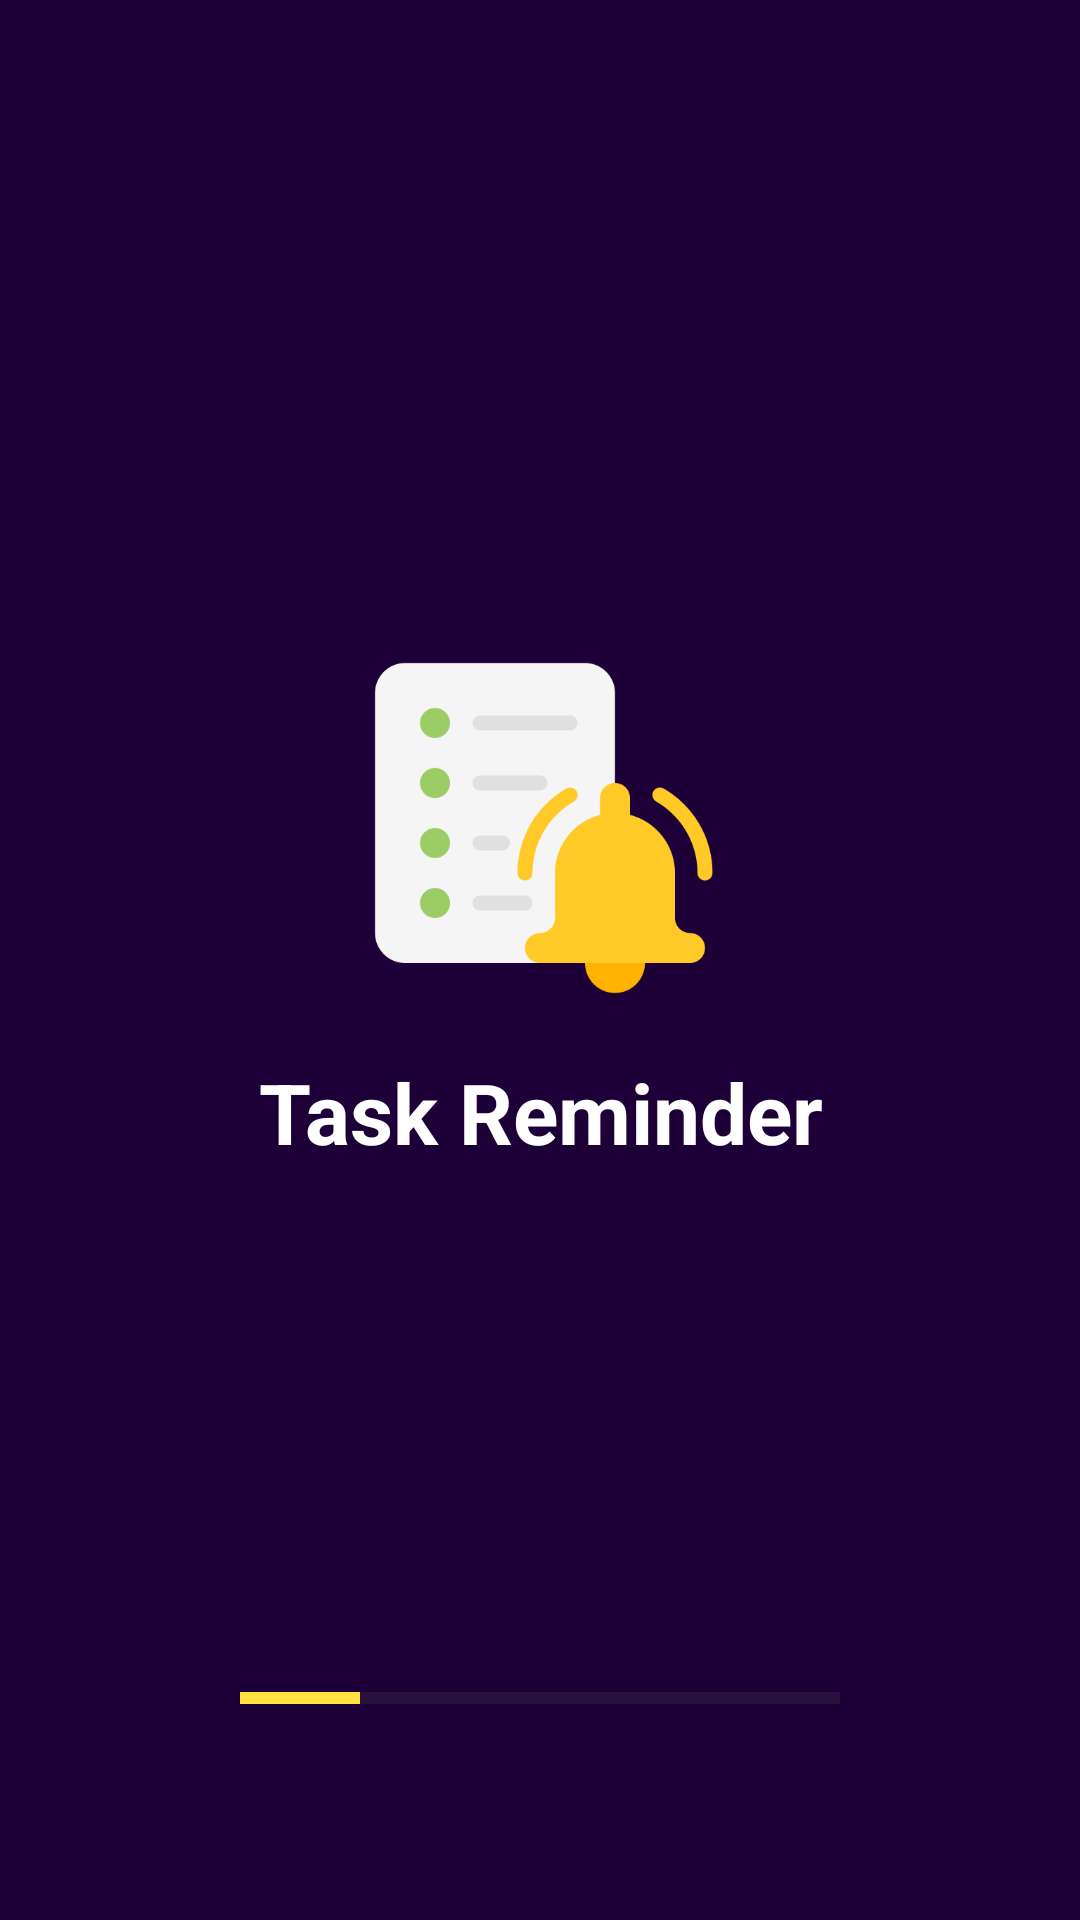

Icons on this 1080w x 1920h Android screen, each with its box as (x1, y1, x2, y2):
App Icon: (375, 663, 713, 993)
